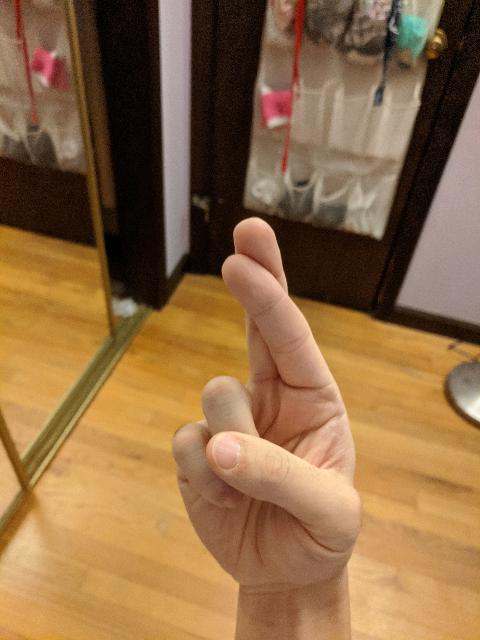R: (167, 212, 367, 596)
